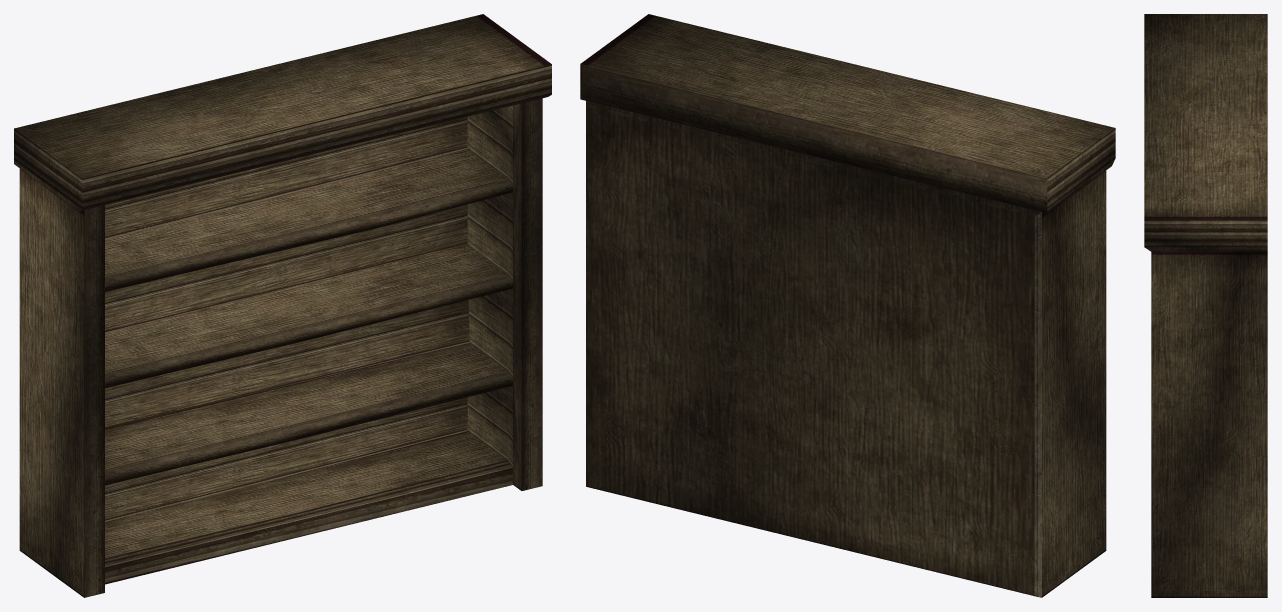
Rendered from GS_SINGLE_OPEN_STORAGE_BROWN_01_KOZA.glb.
3 views of the same model, side by side, from view 1: azimuth 30°, elevation 25°; view 2: azimuth 150°, elevation 25°; view 3: azimuth 270°, elevation 25° (orthographic). The views are drawn at different scales.
Visible parts, largest first — view 1: Mesh; view 2: Mesh; view 3: Mesh.
Part boxes in pixels (x1,y1,x2,y2): Mesh: (14, 14, 551, 597); Mesh: (580, 14, 1115, 597); Mesh: (1144, 14, 1267, 597).
Bounding box in the file's own units: 3.15 × 2.72 × 0.7984.
2 materials, 2 textured.
